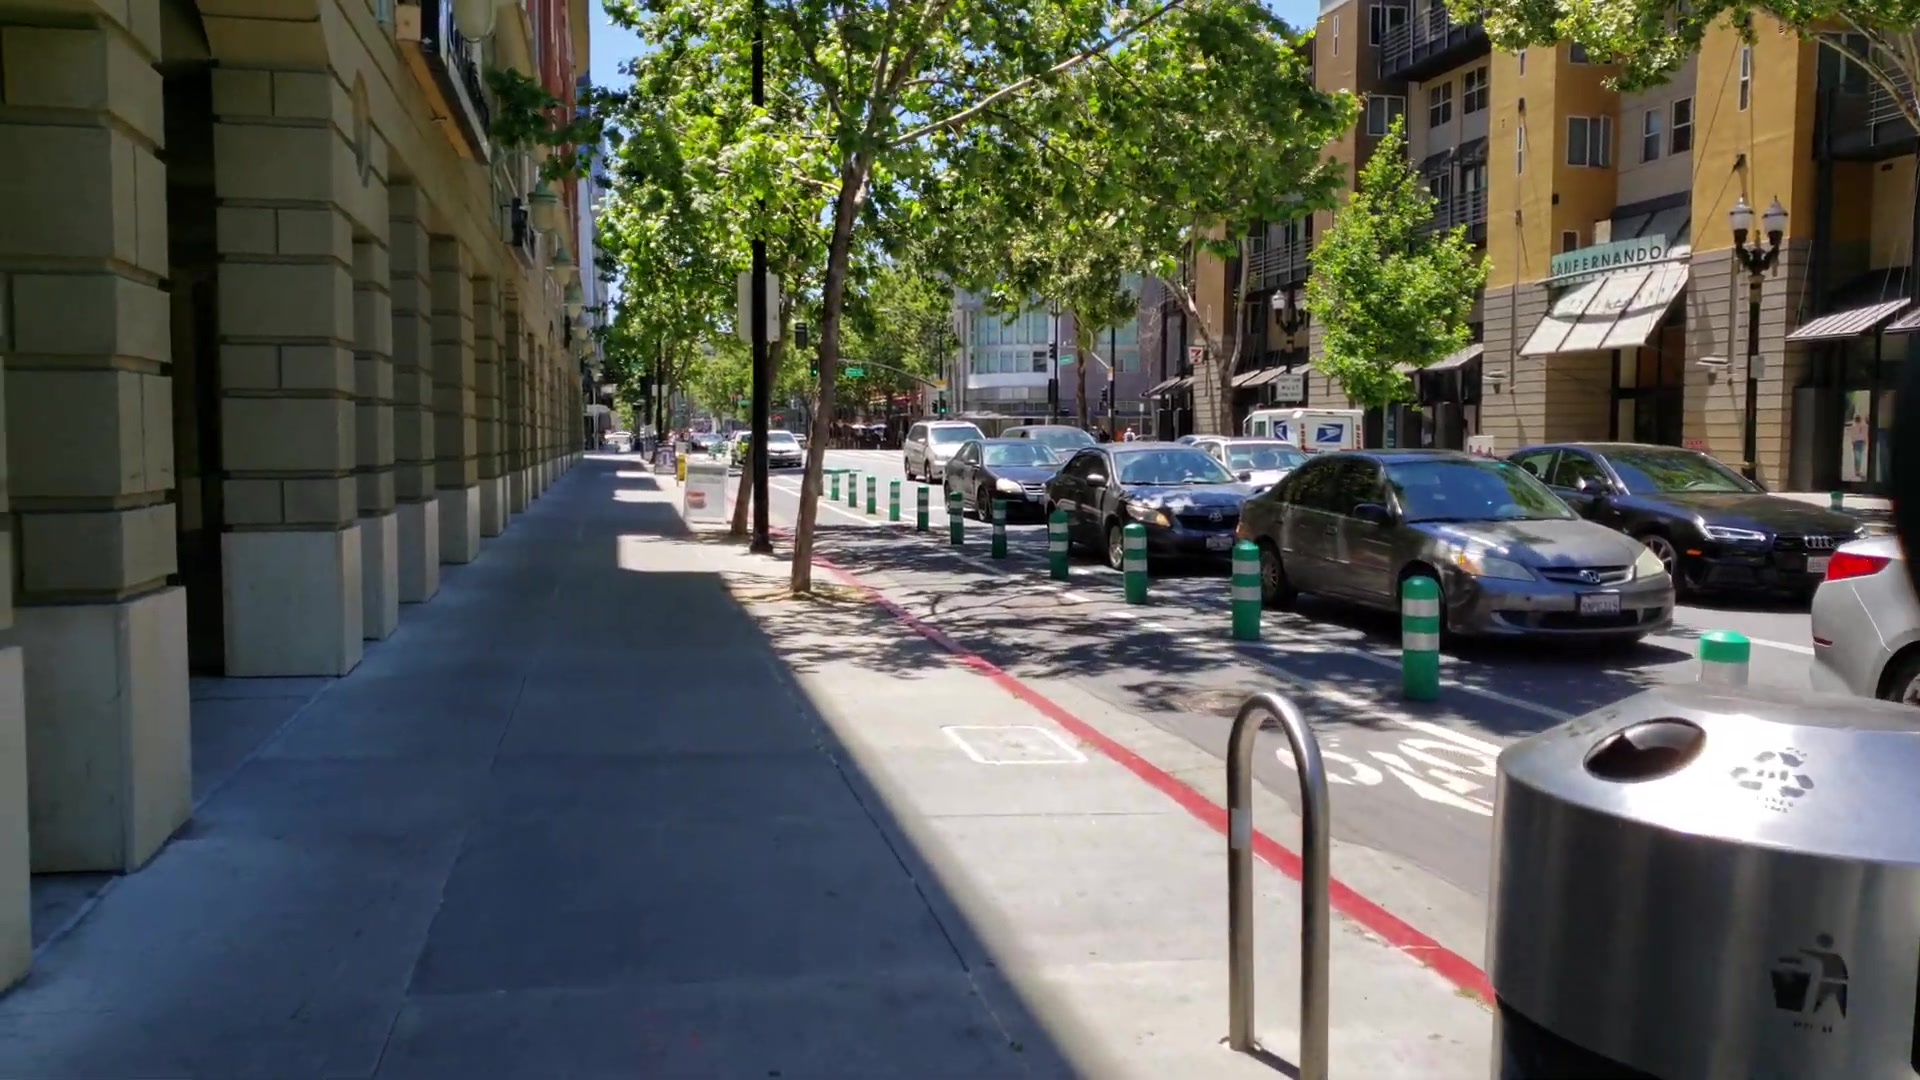vehicle: (1232, 455, 1677, 637), (1039, 442, 1234, 566), (938, 440, 1046, 525), (897, 419, 981, 484)
